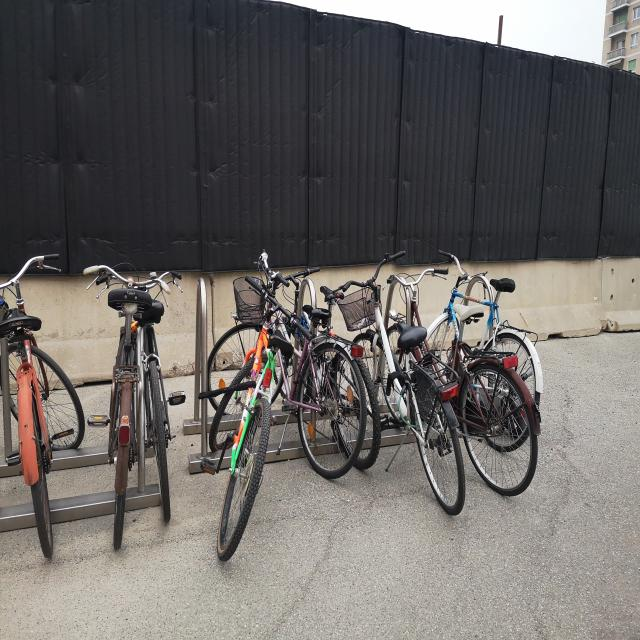Bicycle: (399, 262, 540, 501), (224, 280, 364, 479), (353, 265, 454, 518), (444, 252, 577, 412), (0, 266, 70, 559), (83, 255, 149, 557), (287, 269, 382, 468), (229, 268, 284, 579), (149, 291, 188, 545)
